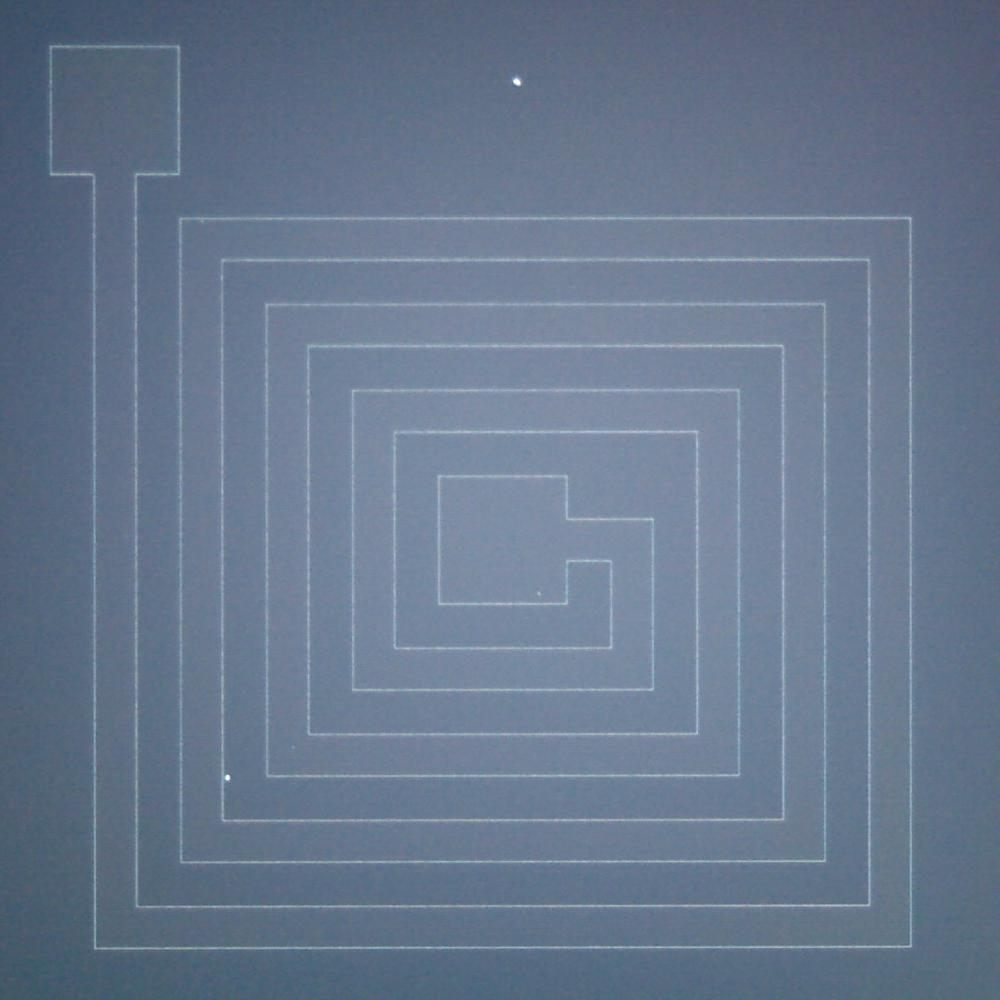dot: (513, 78, 521, 86), (225, 775, 231, 780)
